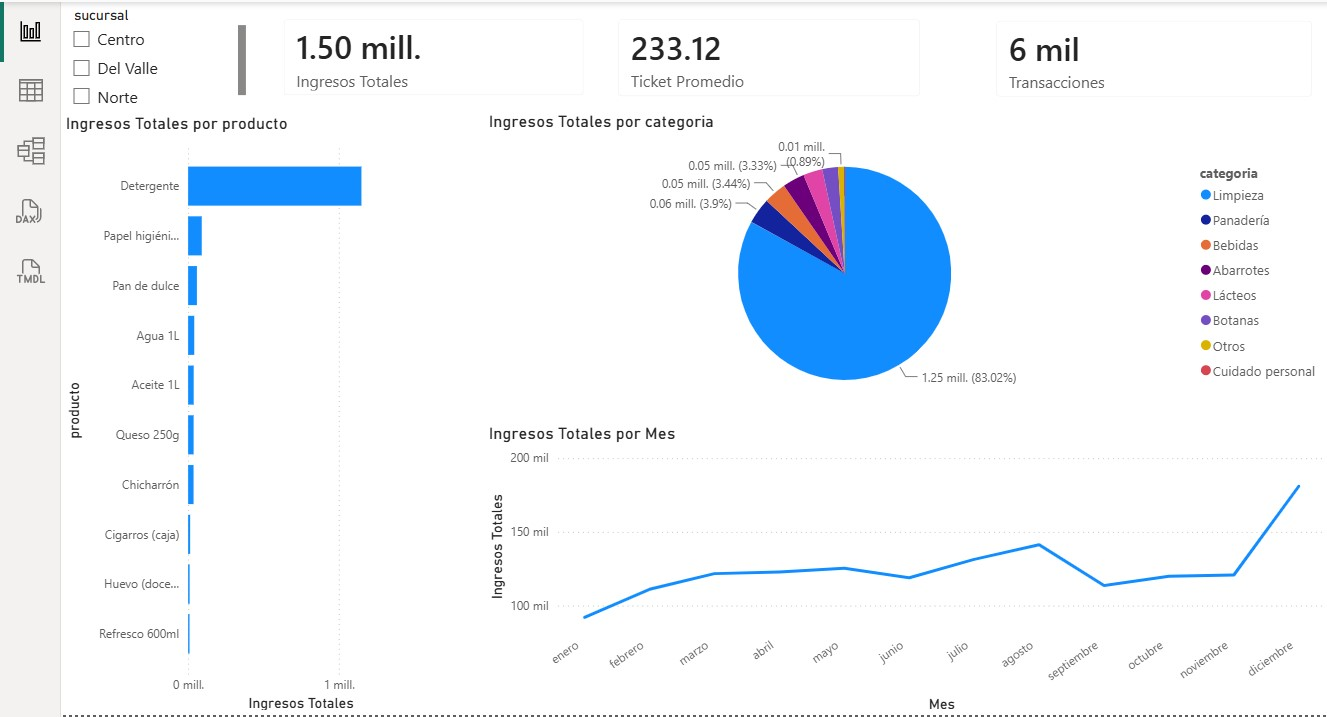

This screenshot's page, from the dashboard's own definition file:
{"tool":"powerbi","page":{"name":"Página 1","canvas":[1280,720],"ordinal":0},"visuals":[{"type":"lineChart","fields":{"Category":["ventas.fecha.Variación.Jerarquía de fechas.Mes"],"Y":["ventas.Ingresos Totales"]},"box":[426.7,425.3,853.5,295.2],"z":0},{"type":"barChart","fields":{"Category":["ventas.producto"],"Y":["ventas.Ingresos Totales"]},"box":[0,112.5,377.1,608],"z":1},{"type":"pieChart","fields":{"Category":["ventas.categoria"],"Y":["ventas.Ingresos Totales"]},"box":[426.7,111.1,853.5,305.4],"z":2},{"type":"cardVisual","fields":{"Data":["ventas.Ingresos Totales"]},"box":[207.5,0,337.6,111.1],"z":3},{"type":"cardVisual","fields":{"Data":["ventas.Ticket Promedio"]},"box":[545.1,0,339.1,112.5],"z":4},{"type":"cardVisual","fields":{"Data":["ventas.Transacciones"]},"box":[926.6,1.5,353.7,111.1],"z":5},{"type":"slicer","fields":{"Values":["ventas.sucursal"]},"box":[0,0,191.5,111.1],"z":6}]}

Visuals, with their boxes on the page's 1280x720 design canvas (x1, y1, x2, y2). These are canvas units, not pixel positions in the 1327x717 screenshot, which may show the page scaled, cropped or inside an application window:
lineChart - ventas.fecha.Variación.Jerarquía de fechas.Mes x ventas.Ingresos Totales: box=[427, 425, 1280, 720]
barChart - ventas.producto x ventas.Ingresos Totales: box=[0, 112, 377, 720]
pieChart - ventas.categoria x ventas.Ingresos Totales: box=[427, 111, 1280, 416]
cardVisual - ventas.Ingresos Totales: box=[208, 0, 545, 111]
cardVisual - ventas.Ticket Promedio: box=[545, 0, 884, 112]
cardVisual - ventas.Transacciones: box=[927, 2, 1280, 113]
slicer - ventas.sucursal: box=[0, 0, 192, 111]
